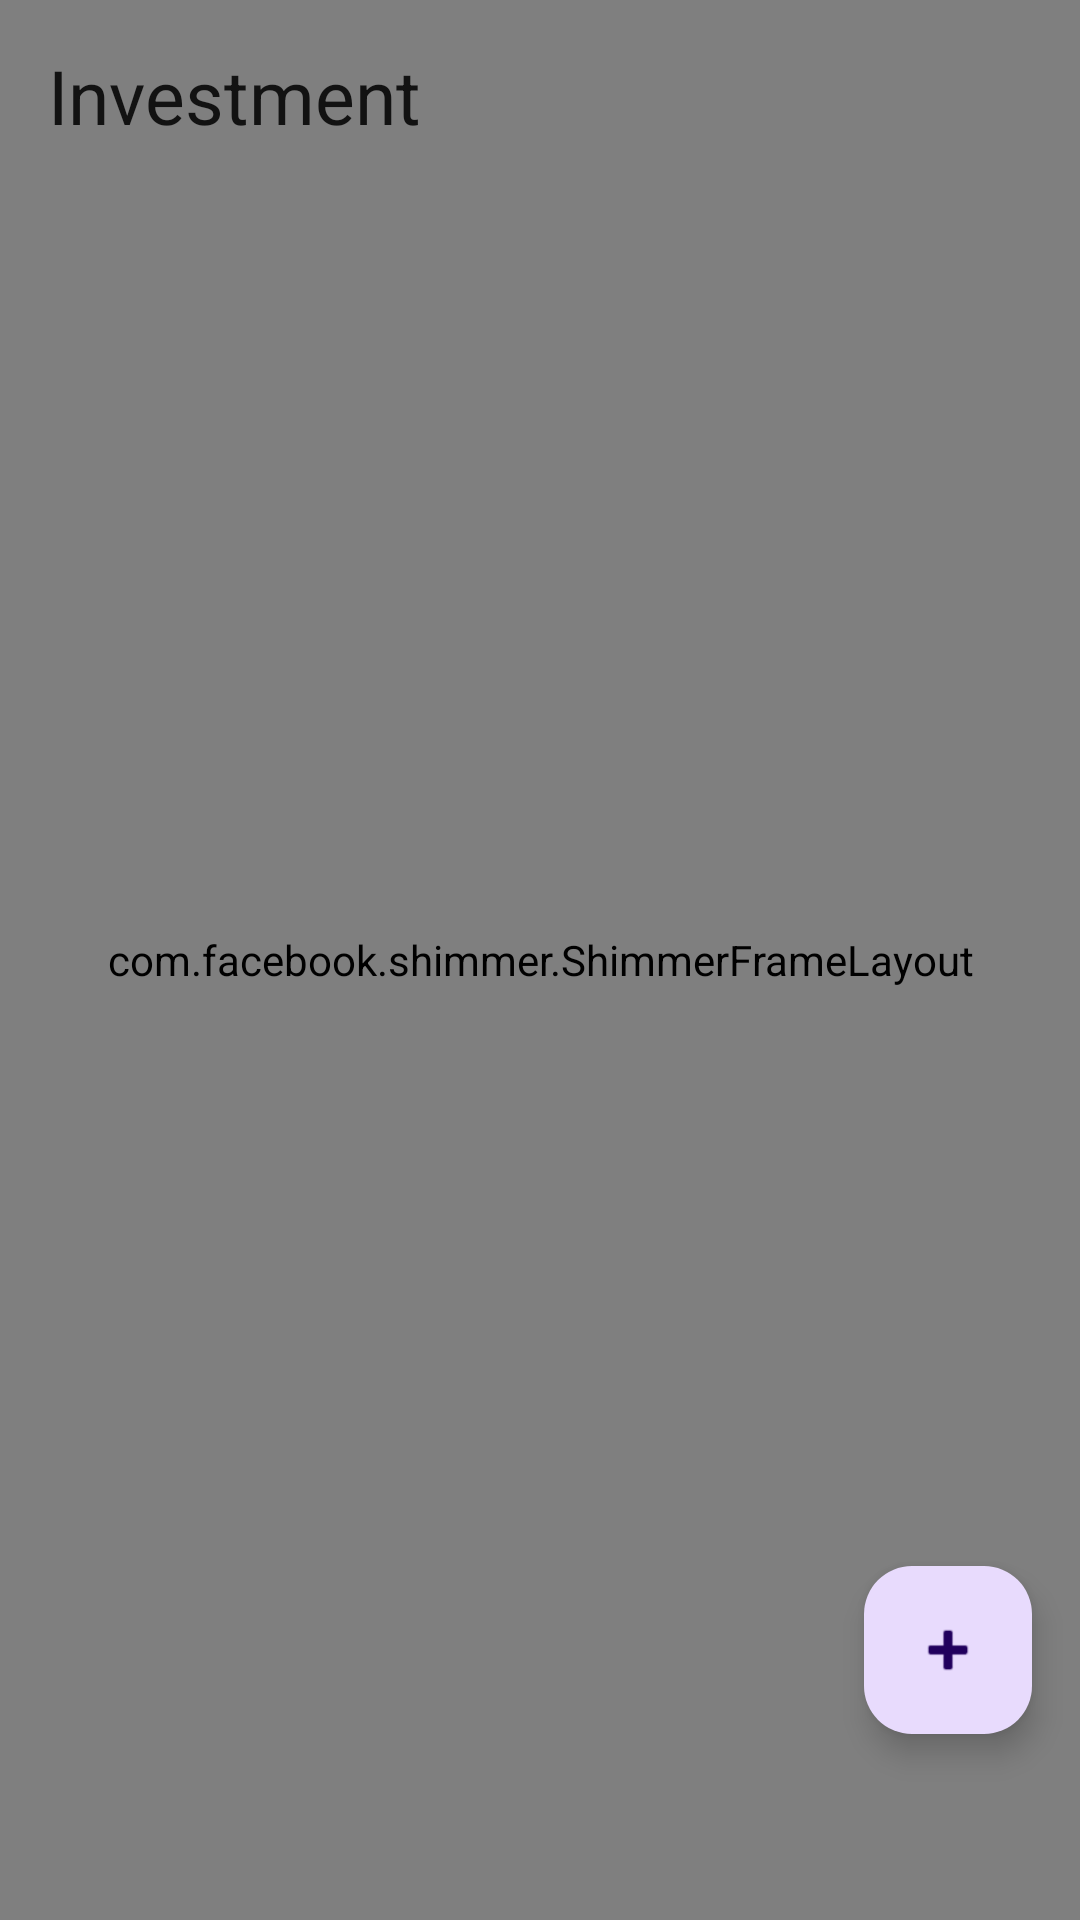

Where to tap for icons on this 1080px x 1920px app screen, as point (x, y):
Add investment: point (948, 1650)
